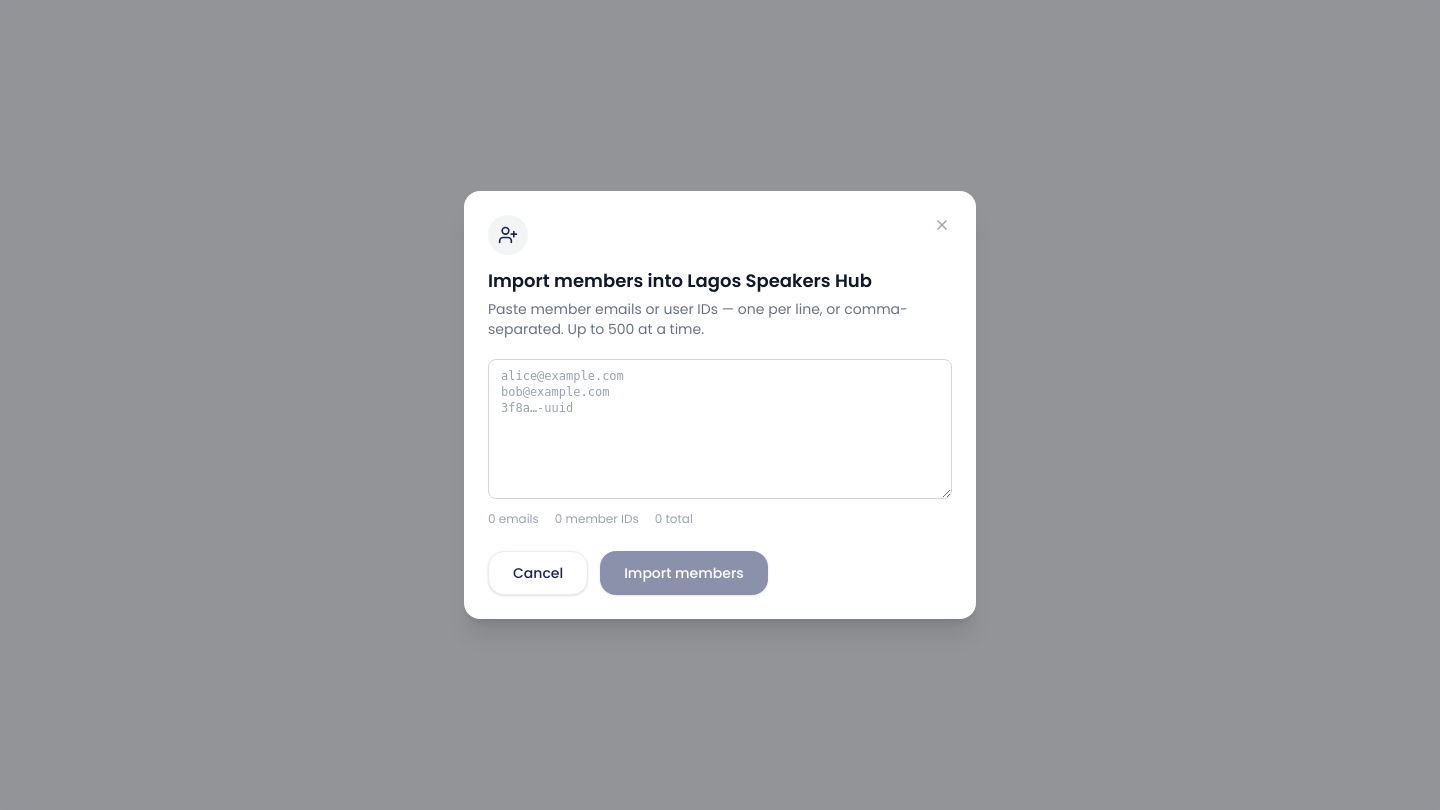
Test: ImportMembersModal › disables submit until at least one entry parses
Expected: the button "Import members" is disabled, x1=600 y1=551 x2=768 y2=595
Type "alice@example.com" into the text box named "Member emails or IDs" at {"x": 720, "y": 429}, box x1=488 y1=359 x2=952 y2=499
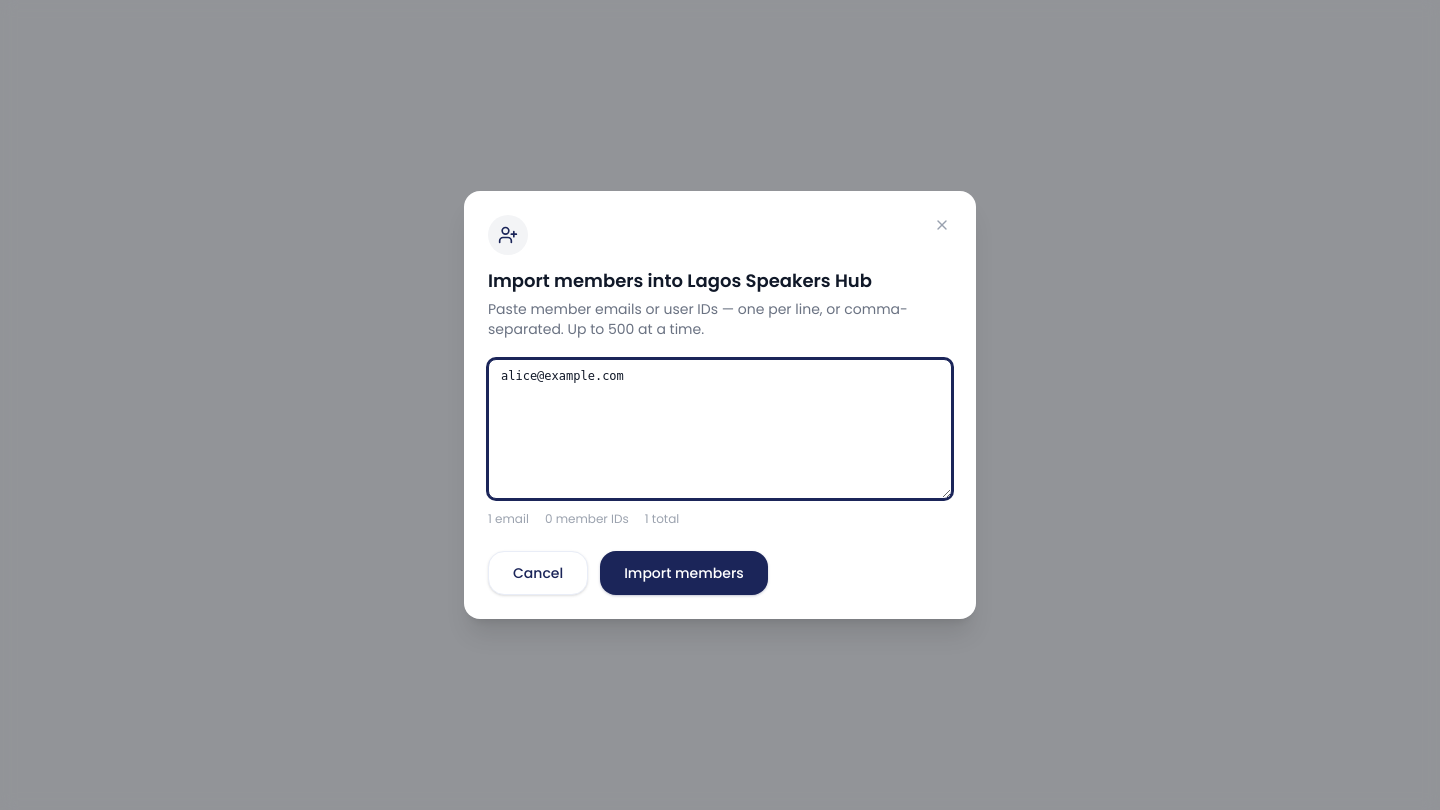
Expected: the button "Import members" is enabled, x1=600 y1=551 x2=768 y2=595
